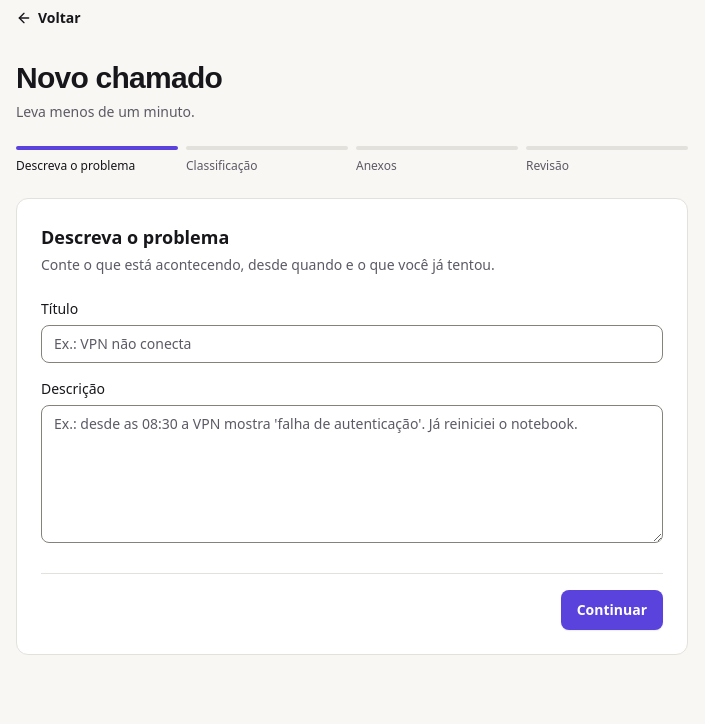
Test case: NewTicketPage › não avança sem descrever o problema
The width and height of the screenshot is (705, 724).
Step 1. Click the button "Continuar" → (612, 610), box [561,590,663,630]
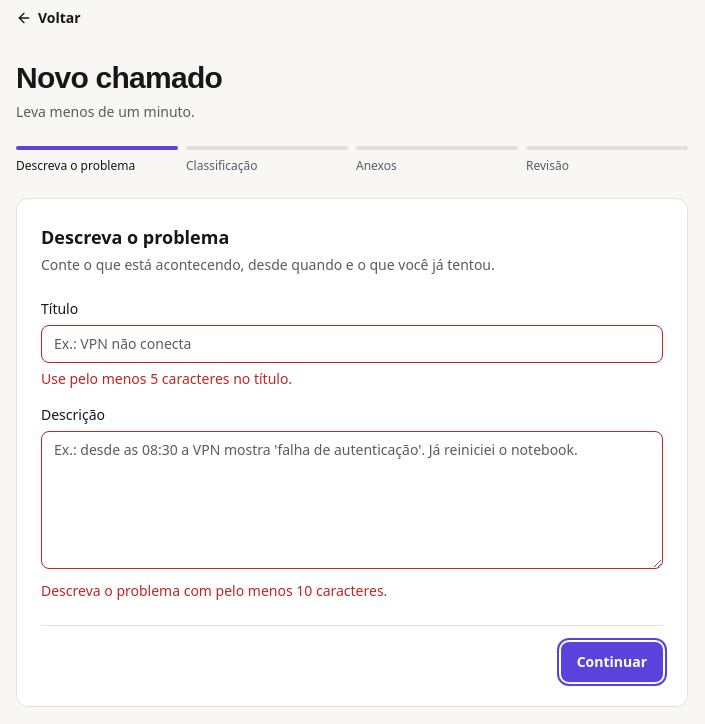
Expected: the heading "Descreva o problema" is shown, [40,224,229,249]
Now the text "Use pelo menos 5 caracteres no título." is shown, box [41,369,292,388]
Now the text "Descreva o problema com pelo menos 10 caracteres." is shown, box [41,581,387,600]
